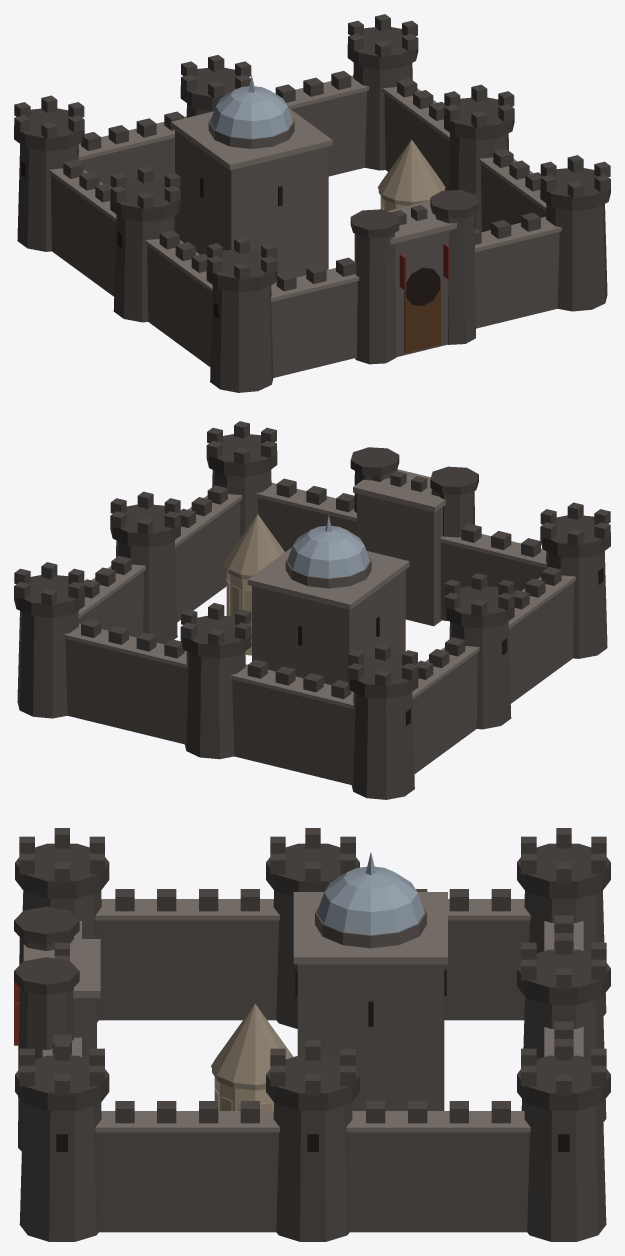
The model's file is kayseri.glb.
3 renders of one model, top to bottom at view 1: azimuth 30°, elevation 25°; view 2: azimuth 150°, elevation 25°; view 3: azimuth 270°, elevation 25°, orthographic. The views are drawn at different scales.
Parts seen in each view (by area): view 1: kale, doner_kumbet; view 2: kale, doner_kumbet; view 3: kale, doner_kumbet.
Boxes of the visible parts, <box> form: kale: <box>14,14,610,392</box>; doner_kumbet: <box>377,139,445,210</box>; kale: <box>14,421,610,799</box>; doner_kumbet: <box>224,514,284,655</box>; kale: <box>14,828,610,1241</box>; doner_kumbet: <box>211,1003,293,1110</box>.
Size of the model in its own units: 15.5 by 7.05 by 15.47.
